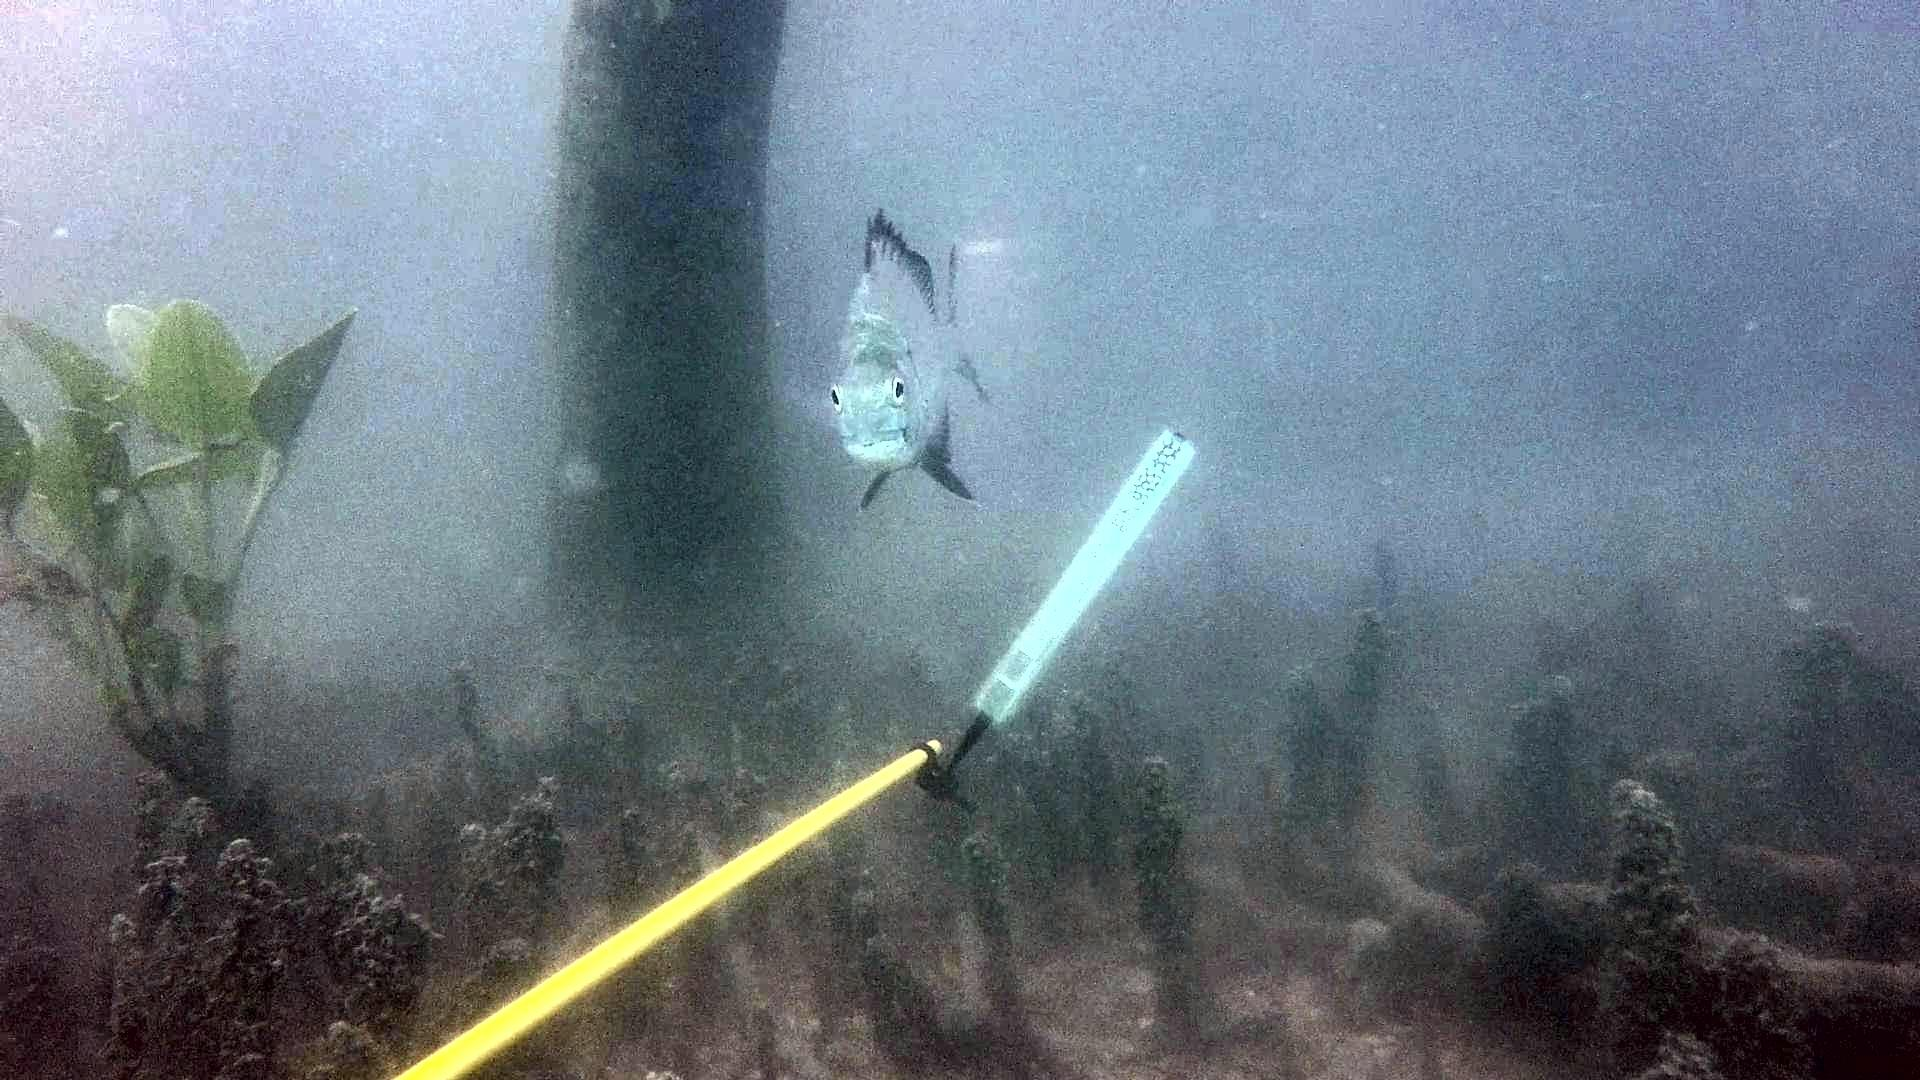acanthopagrus palmaris: (815, 198, 1001, 513)
